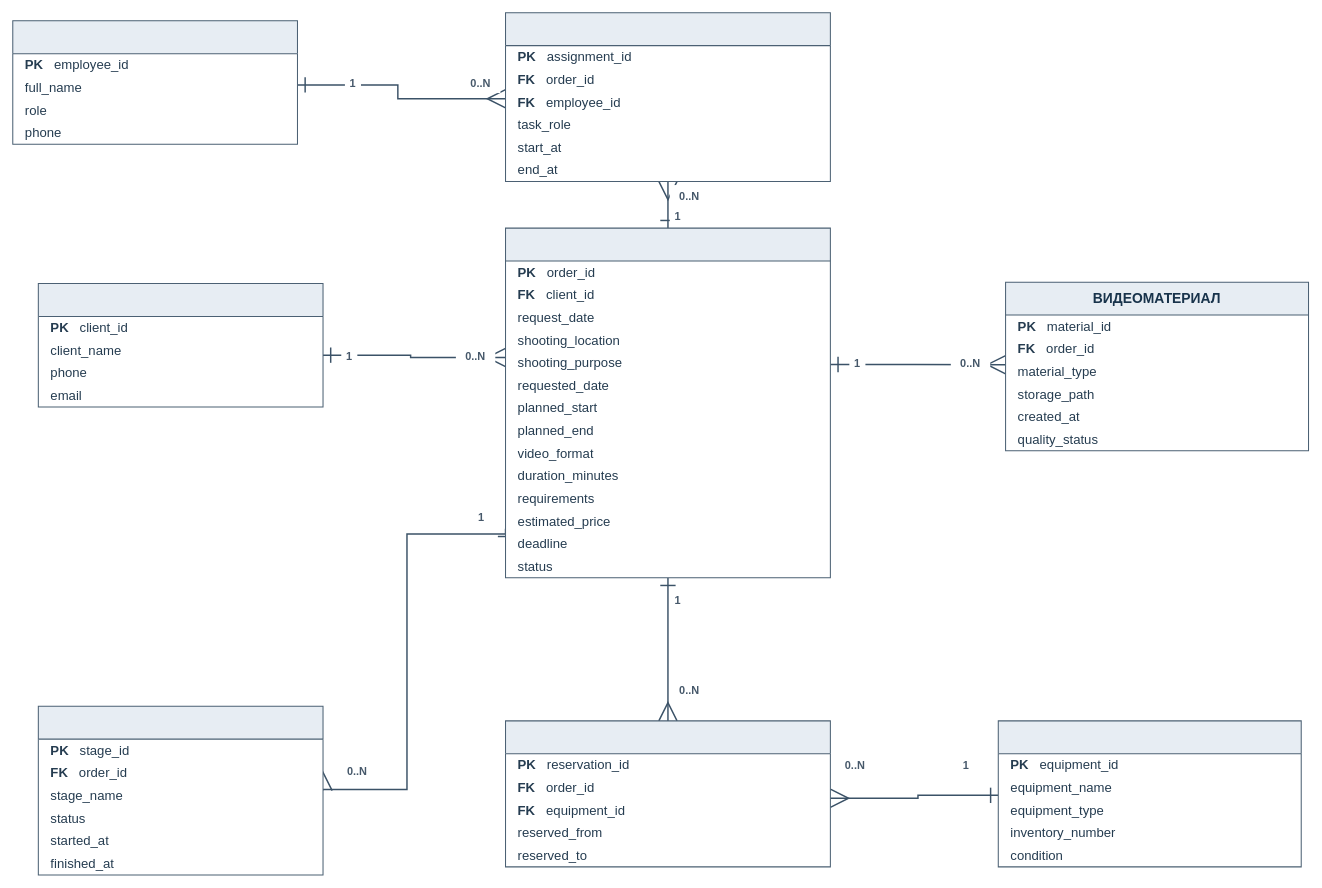
Image size: 1322x888. Some labels were removed from this diagram. Here are the shapes that lost their labels. From the top down, the box of each, then its label:
(12, 20, 298, 144): СОТРУДНИК
(505, 12, 831, 182): НАЗНАЧЕНИЕ СОТРУДНИКА
(37, 283, 323, 407): КЛИЕНТ
(505, 227, 831, 578): ЗАКАЗ
(37, 705, 323, 875): ЭТАП ВЫПОЛНЕНИЯ
(505, 720, 831, 867): РЕЗЕРВИРОВАНИЕ ОБОРУДОВАНИЯ
(997, 720, 1301, 867): ОБОРУДОВАНИЕ
